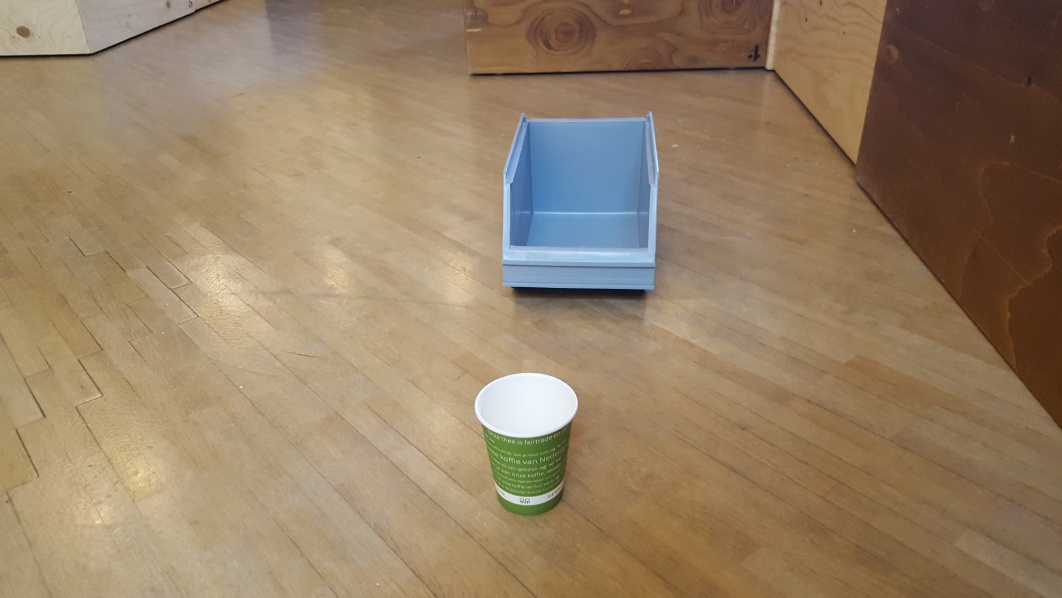cup: (473, 371, 581, 515)
tray: (502, 111, 662, 302)
